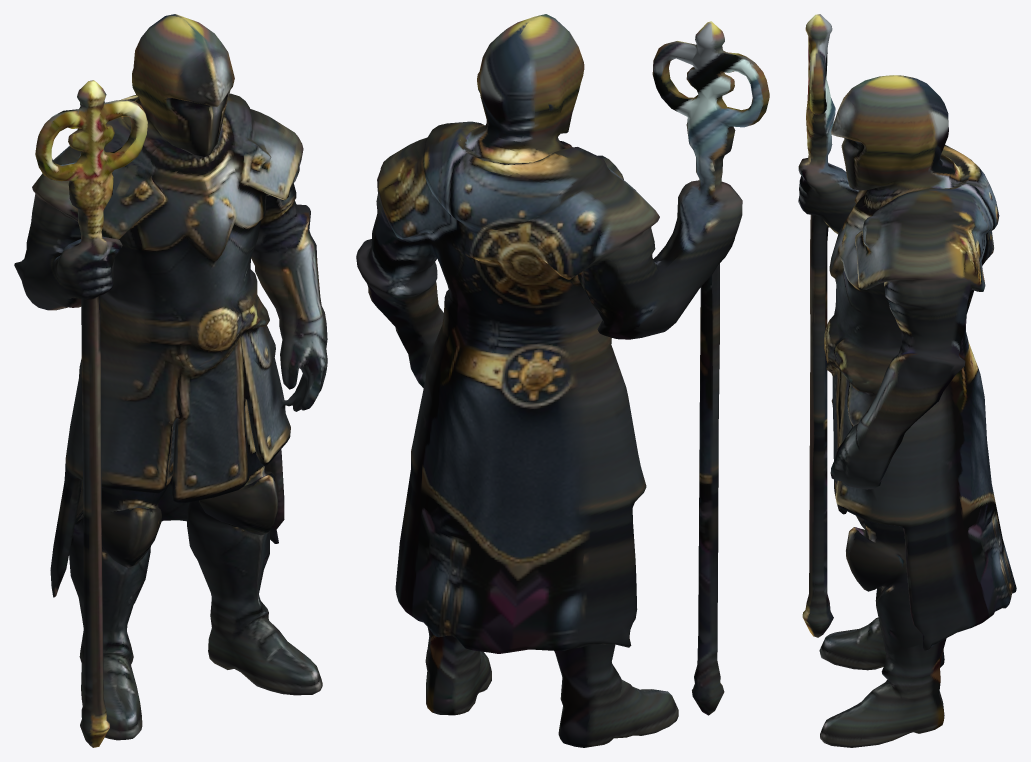
Rendered from CogWarden.glb.
The picture shows the model from 3 angles, left to right: view 1: azimuth 30°, elevation 25°; view 2: azimuth 150°, elevation 25°; view 3: azimuth 270°, elevation 25°; orthographic projection. The views are drawn at different scales.
Parts seen in each view (by area): view 1: CogWarden; view 2: CogWarden; view 3: CogWarden.
Boxes of the visible parts, x1,y1,x2,y2 form: CogWarden: (14, 14, 327, 747); CogWarden: (356, 14, 769, 747); CogWarden: (798, 14, 1016, 747).
Bounding box in the file's own units: 2.59 × 5 × 1.59.
1 material, 1 textured.
